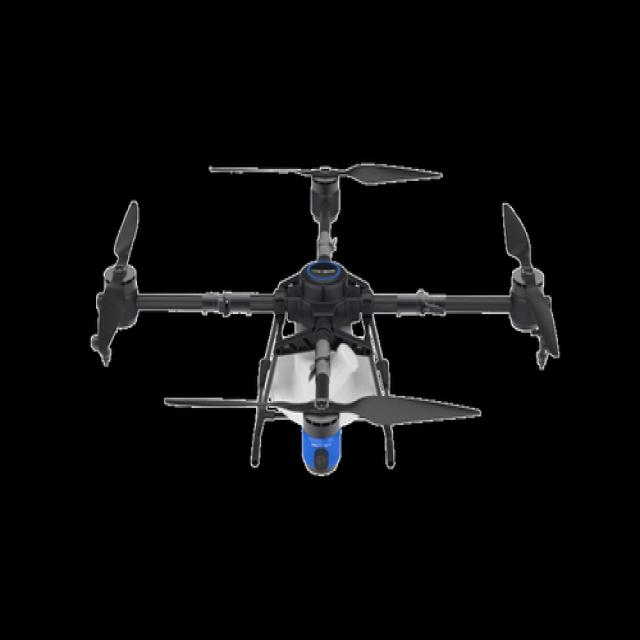drone: (70, 134, 636, 505)
